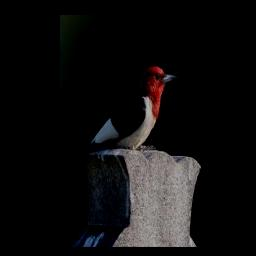Woodpecker: (72, 63, 182, 169)
